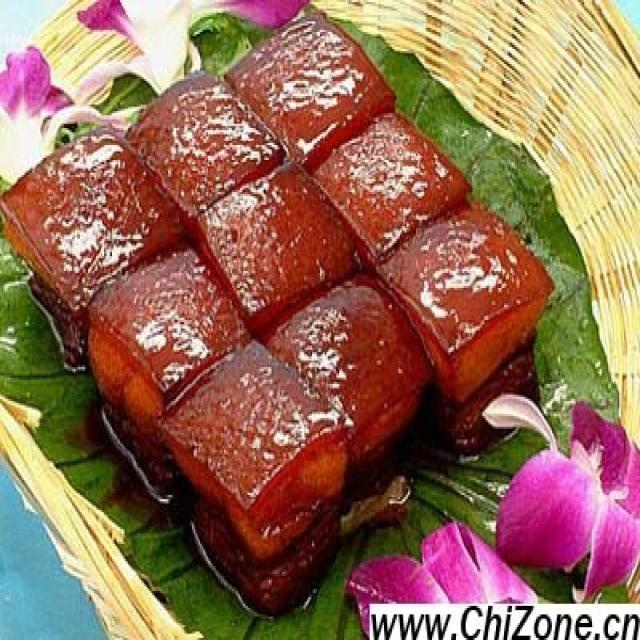牛肉菜式: (24, 13, 600, 589)
